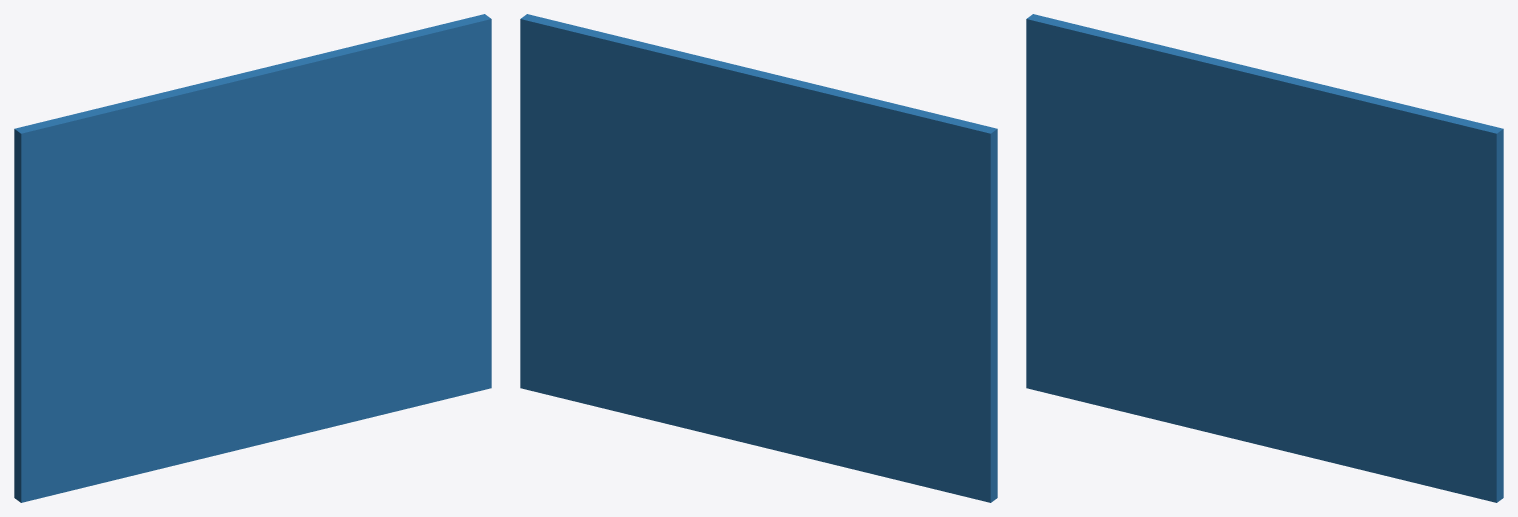
Rendered from WindowBroken.fbx.
The picture shows the model from 3 angles, left to right: view 1: azimuth 30°, elevation 25°; view 2: azimuth 150°, elevation 25°; view 3: azimuth 330°, elevation 25°; orthographic projection.
Parts seen in each view (by area): view 1: WindowBroken.016, WindowBroken.012, WindowBroken.017, WindowBroken.013, WindowBroken.015, WindowBroken.014; view 2: WindowBroken.016, WindowBroken.012, WindowBroken.017, WindowBroken.013, WindowBroken.015, WindowBroken.014; view 3: WindowBroken.012, WindowBroken.016, WindowBroken.013, WindowBroken.017, WindowBroken.015, WindowBroken.014.
Boxes of the visible parts, x1,y1,x2,y2 form: WindowBroken.016: (14, 118, 255, 386); WindowBroken.012: (256, 14, 491, 283); WindowBroken.017: (56, 47, 357, 283); WindowBroken.013: (256, 181, 491, 409); WindowBroken.015: (14, 284, 255, 502); WindowBroken.014: (177, 285, 403, 464); WindowBroken.016: (757, 118, 997, 387); WindowBroken.012: (520, 14, 756, 284); WindowBroken.017: (655, 46, 953, 284); WindowBroken.013: (520, 181, 756, 409); WindowBroken.015: (757, 285, 997, 502); WindowBroken.014: (609, 285, 835, 464); WindowBroken.012: (1261, 96, 1503, 295); WindowBroken.016: (1026, 14, 1260, 284); WindowBroken.013: (1261, 284, 1503, 502); WindowBroken.017: (1070, 24, 1368, 283); WindowBroken.015: (1026, 272, 1260, 426); WindowBroken.014: (1183, 284, 1409, 481).
Bounding box in the file's own units: 400 × 300 × 10.
